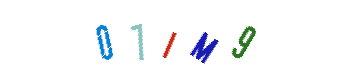0: (119, 0, 199, 80)
7: (123, 0, 203, 80)
9: (204, 0, 284, 80)
I: (129, 0, 209, 80)
M: (137, 0, 217, 80)
